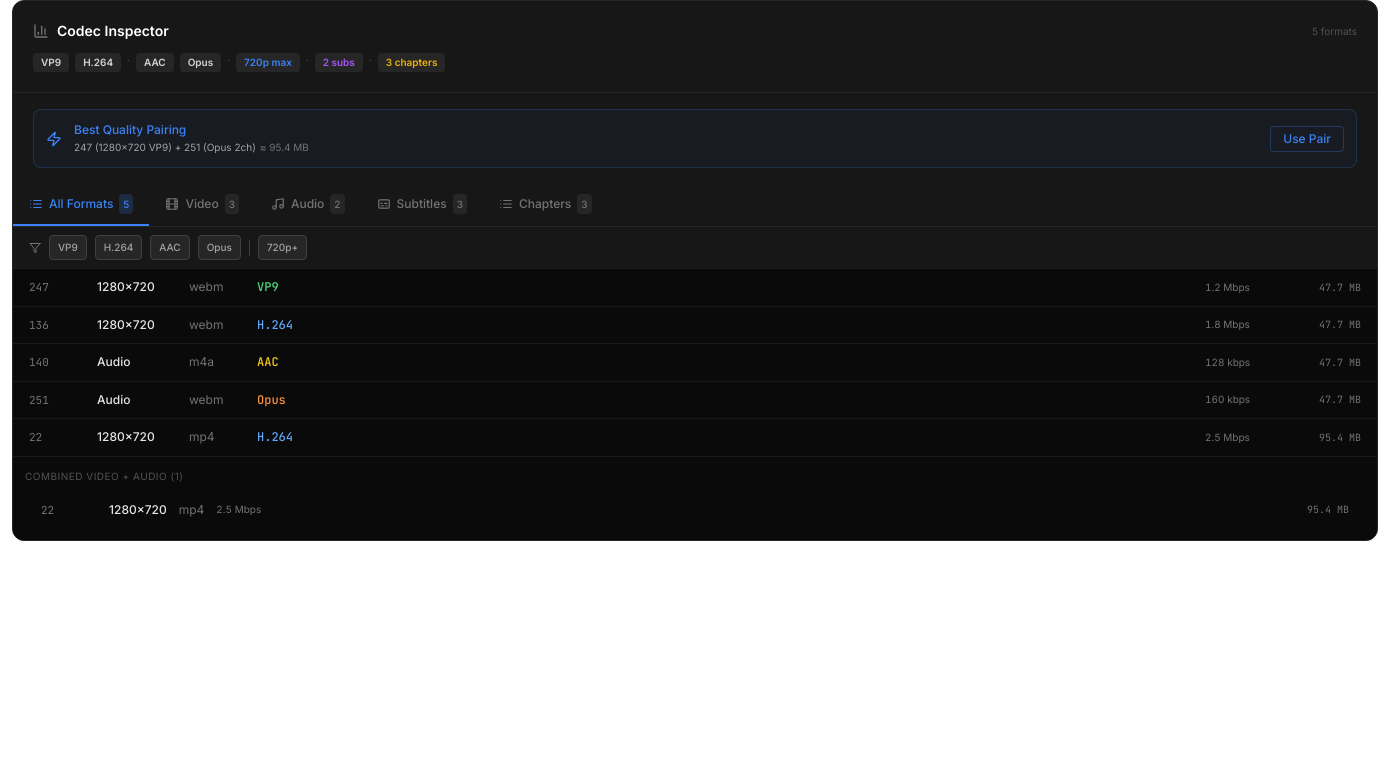
it: FormatInspector › switches to video tab
Click the button "Video 3" at (202,205), box [149,184,255,226]
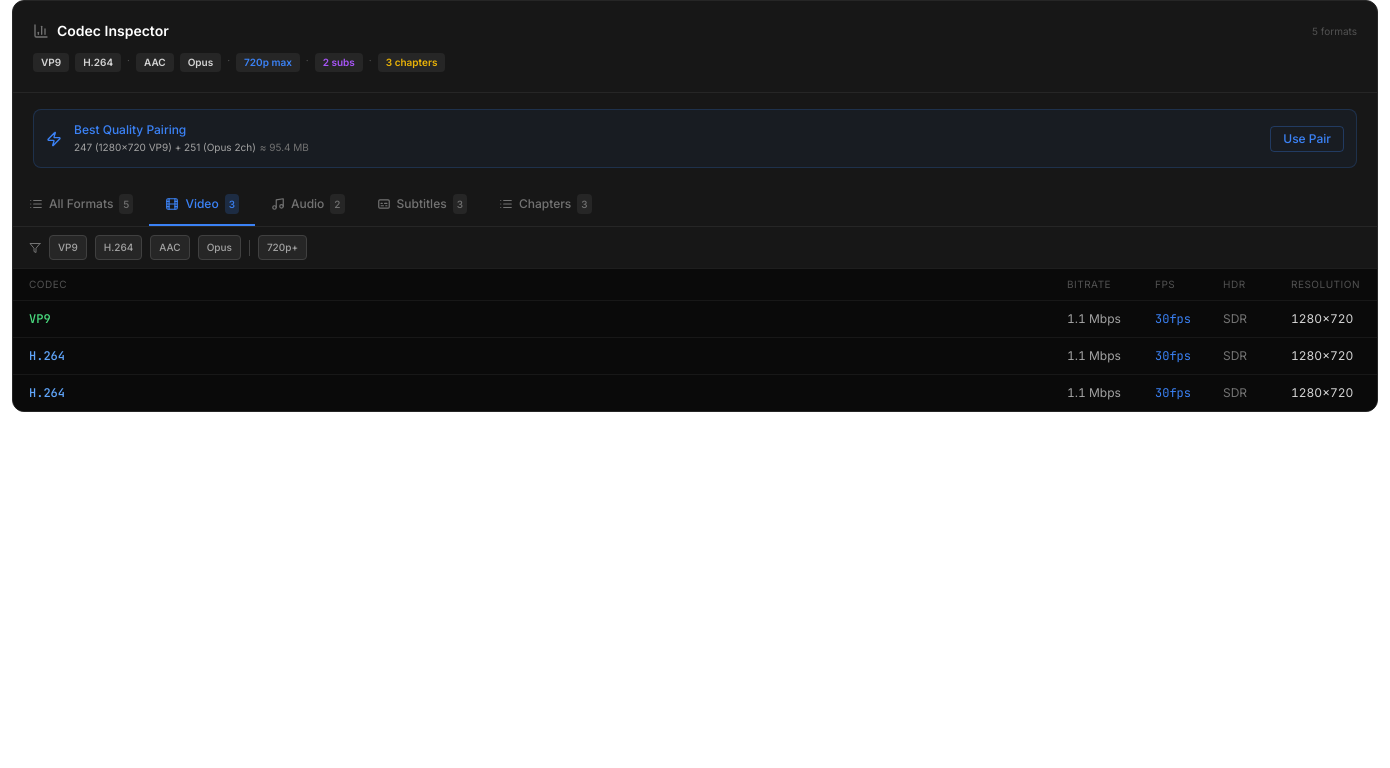
Check: the text "Bitrate" is shown, box [1067,278,1111,290]
